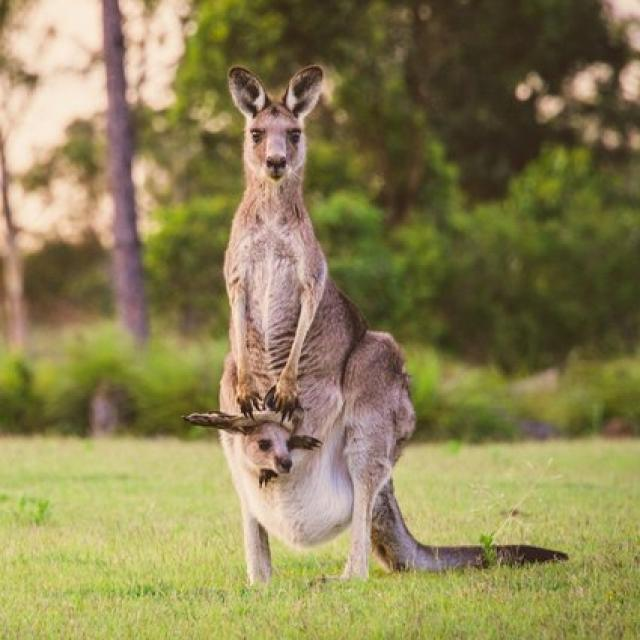Kangaroo: (180, 48, 578, 584), (170, 372, 328, 488)
